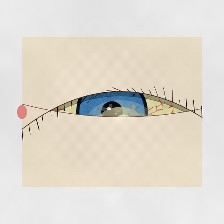corneal_ulcer: (86, 92, 154, 147)
